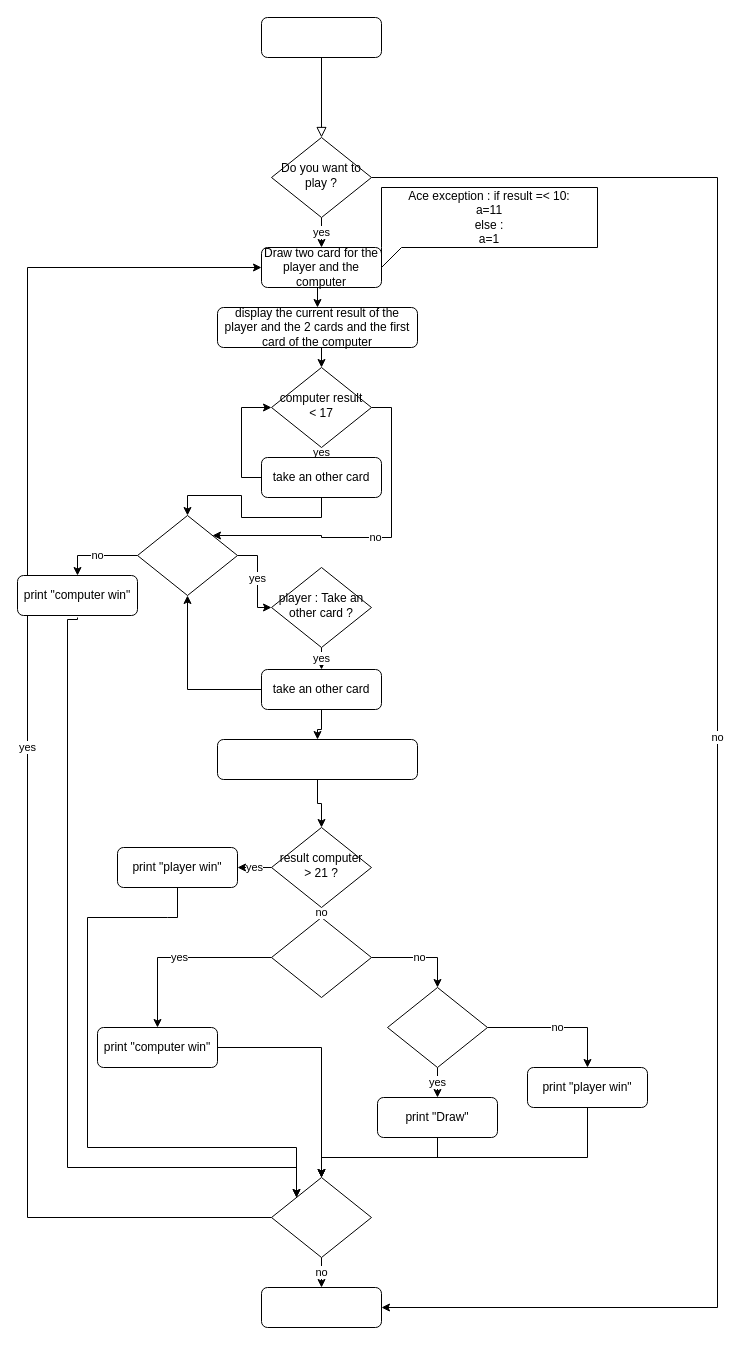
Image size: 743x1345. Some labels were removed from this diagram. The shapes that lost their labels are listed below. From the top down, each one's box as (x1, y1, x2, y2) in pixels, then its label:
(260, 16, 382, 58): Start
(136, 514, 238, 596): result player < 21 ?
(216, 738, 418, 780): display final hand of computer and player
(270, 916, 372, 998): result computer > result player ?
(386, 986, 488, 1068): result computer == result player
(270, 1176, 372, 1258): Do you want to start again ?
(260, 1286, 382, 1328): End
